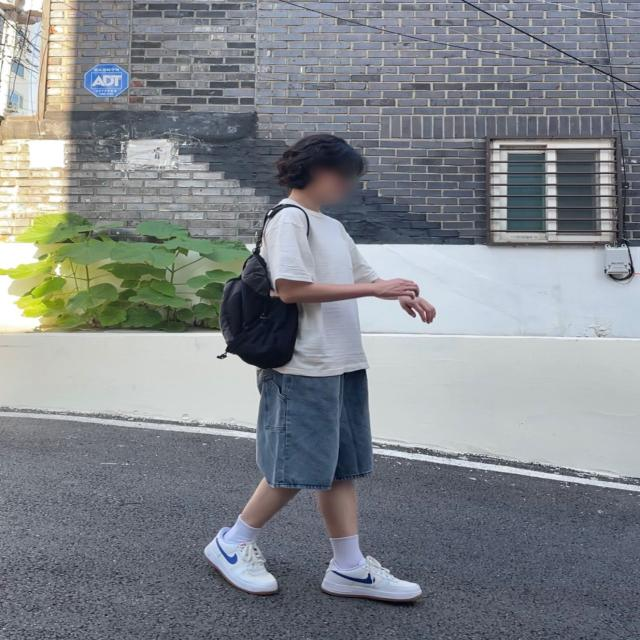shortpants: (256, 360, 372, 491)
shortsleeve: (255, 195, 376, 375)
